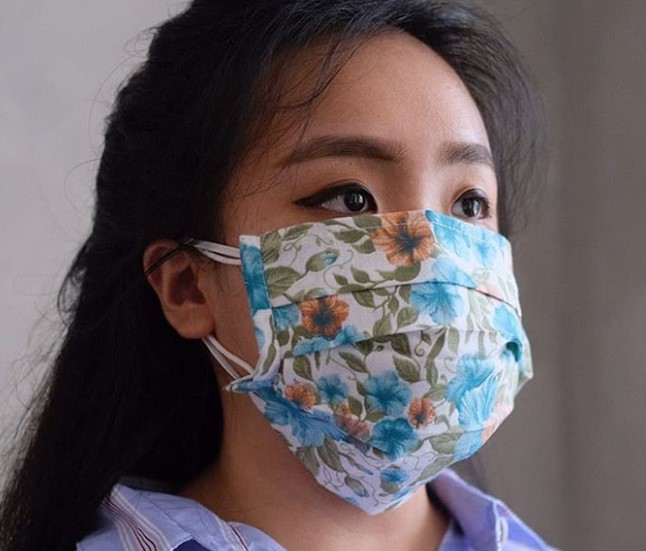face_with_mask: (158, 17, 529, 515)
